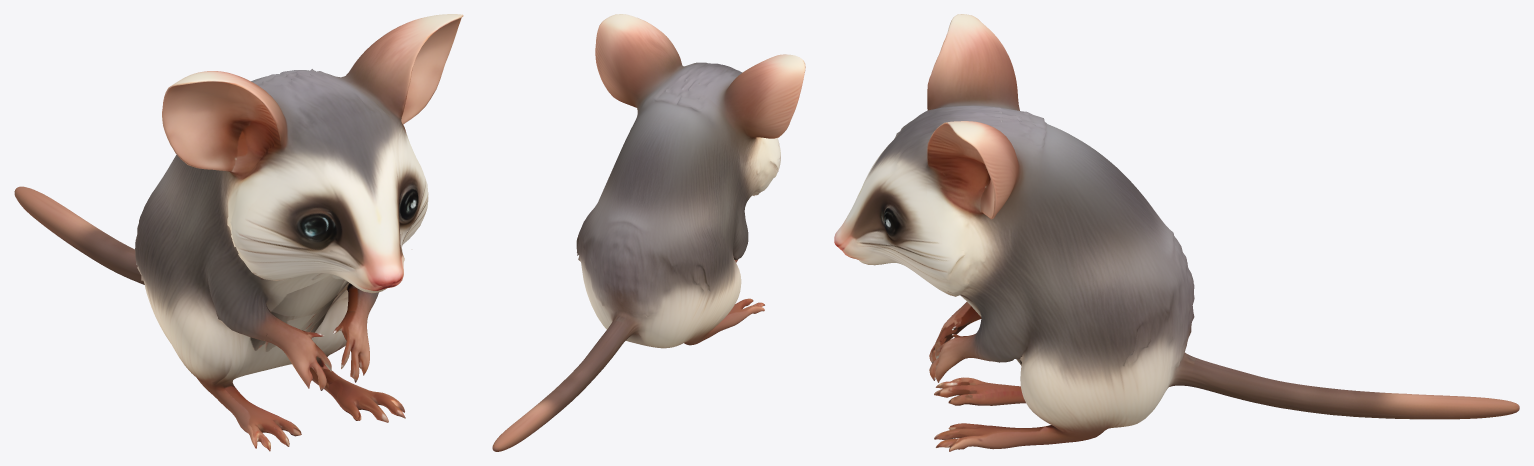
Rendered from leadbeatersPossum.glb.
3 renders of one model, left to right at view 1: azimuth 30°, elevation 25°; view 2: azimuth 150°, elevation 25°; view 3: azimuth 270°, elevation 25°, orthographic. The views are drawn at different scales.
Parts seen in each view (by area): view 1: model; view 2: model; view 3: model.
Boxes of the visible parts, <box> form: model: <box>14,14,463,451</box>; model: <box>492,14,805,451</box>; model: <box>834,14,1519,451</box>.
Size of the model in its own units: 0.859 by 1.07 by 1.9.
Materials: 1 (1 with a texture image).
